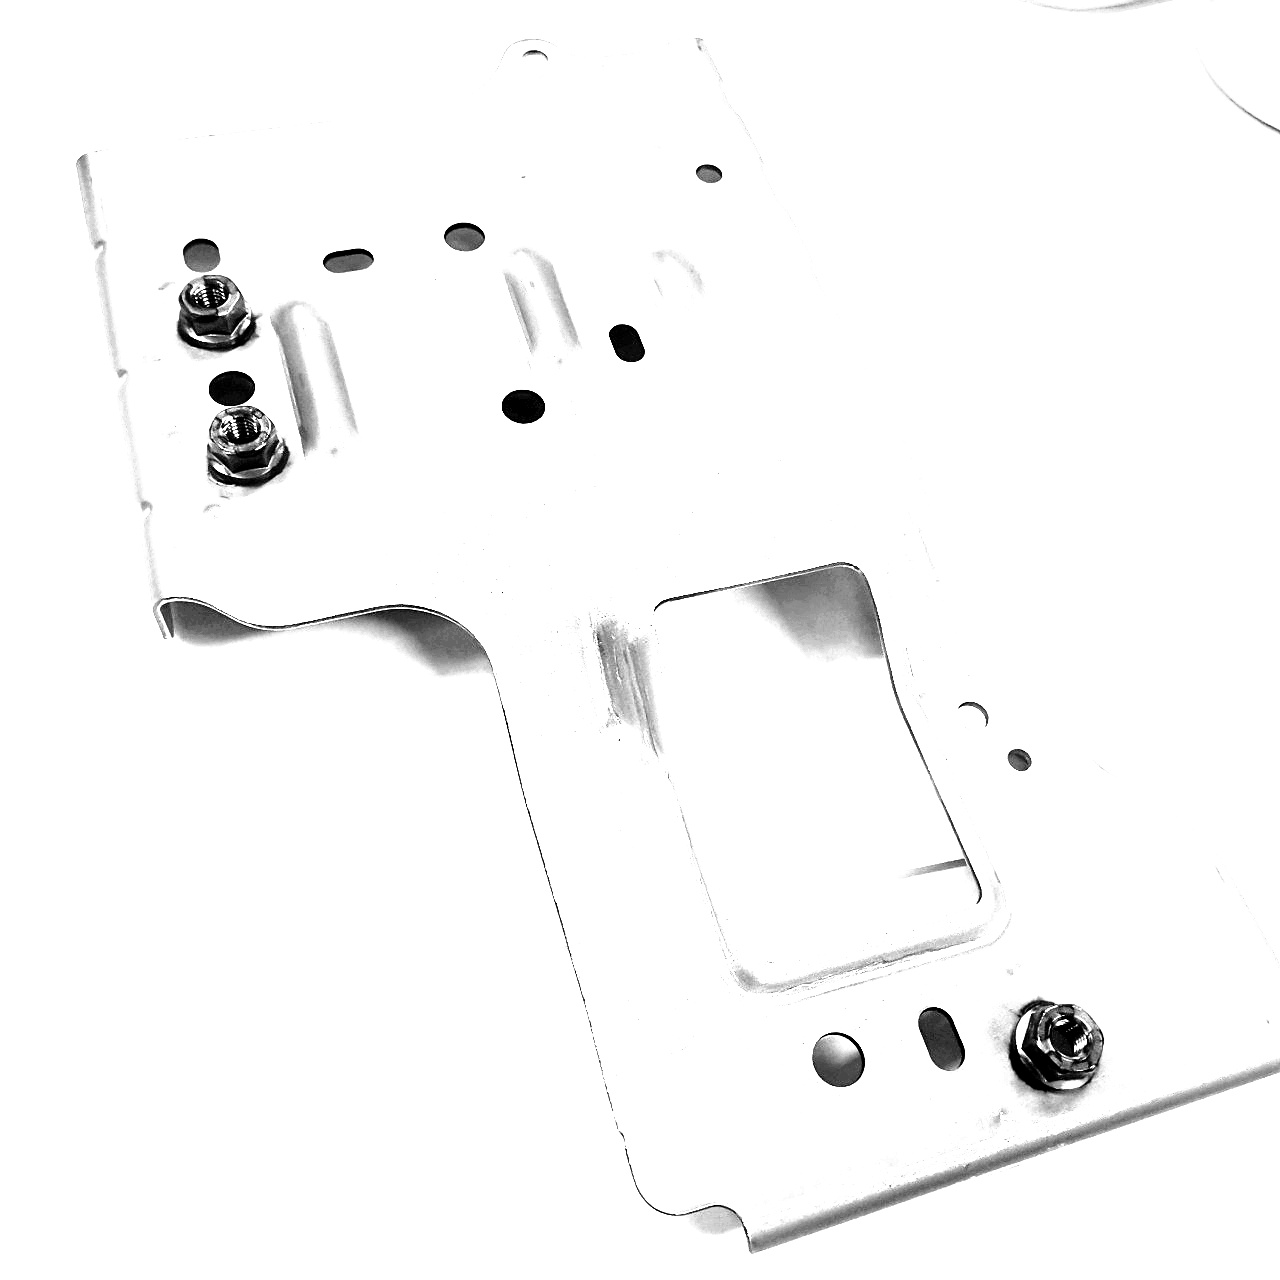dog: (1005, 996, 1108, 1099), (198, 400, 300, 490), (170, 272, 263, 354)
